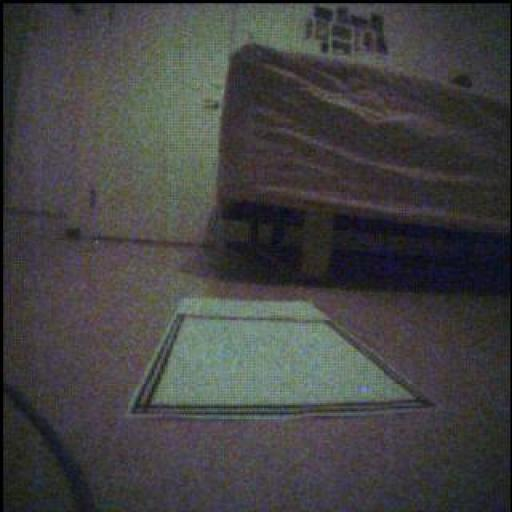pad: (131, 300, 433, 420)
